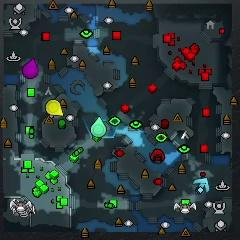p2: (91, 118, 105, 137)
p3: (21, 59, 38, 78)
p4: (45, 100, 64, 116)
x3: (193, 176, 210, 191)
